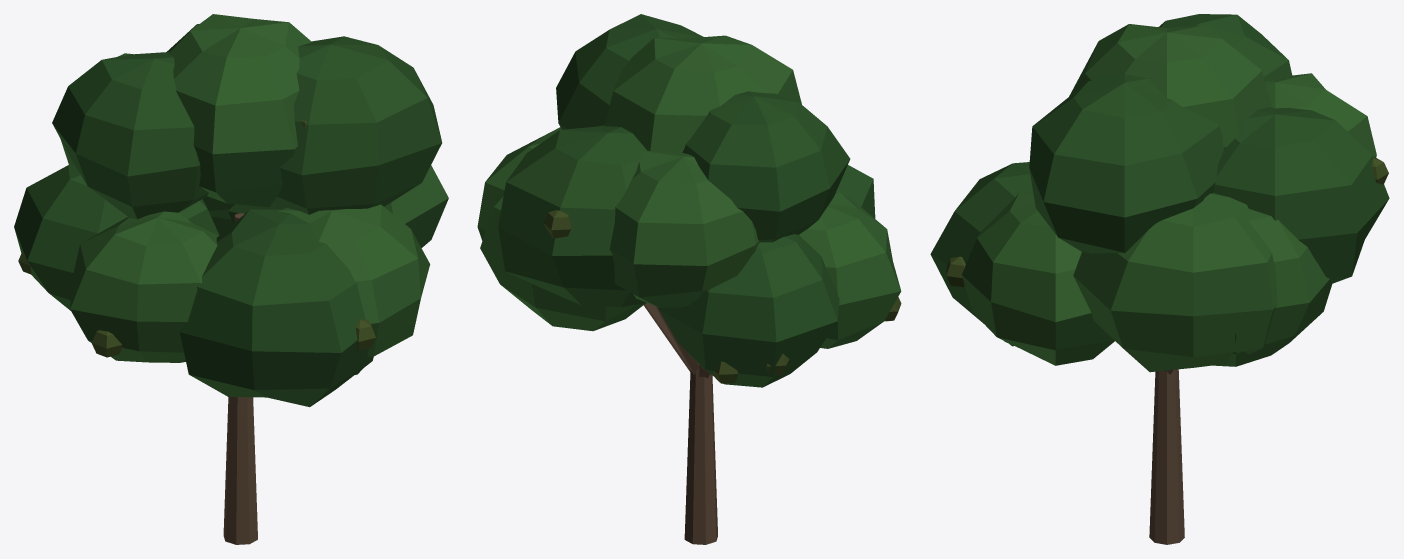
Rendered from tree_avocado_small.glb.
3 views of the same model, side by side, from view 1: azimuth 30°, elevation 25°; view 2: azimuth 150°, elevation 25°; view 3: azimuth 270°, elevation 25° (orthographic). The views are drawn at different scales.
Parts seen in each view (by area): view 1: tree_avocado_small; view 2: tree_avocado_small; view 3: tree_avocado_small.
Part boxes in pixels (x1,y1,x2,y2): tree_avocado_small: (14,14,448,544); tree_avocado_small: (477,14,901,544); tree_avocado_small: (930,14,1389,544).
Bounding box in the file's own units: 3.47 × 4.45 × 3.67.
